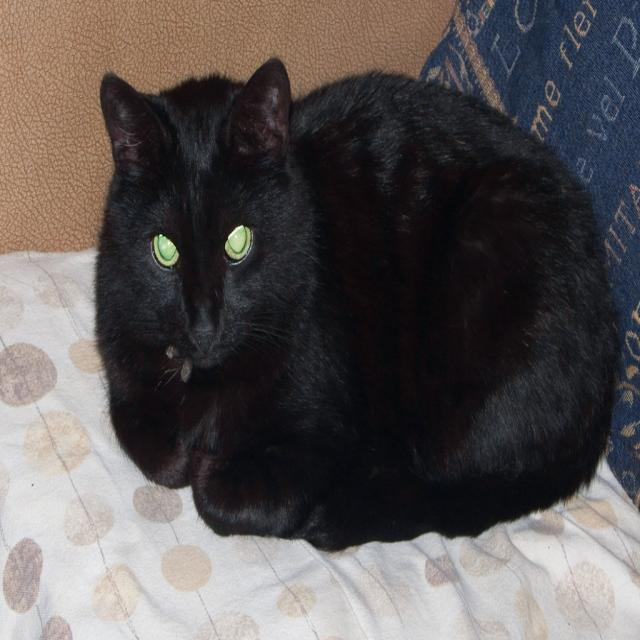Cat: (92, 54, 620, 552)
